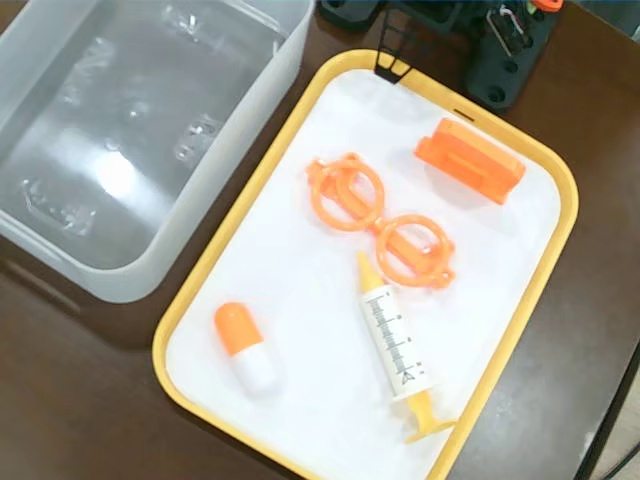pill: (213, 299, 280, 393)
syringe: (352, 255, 458, 446)
